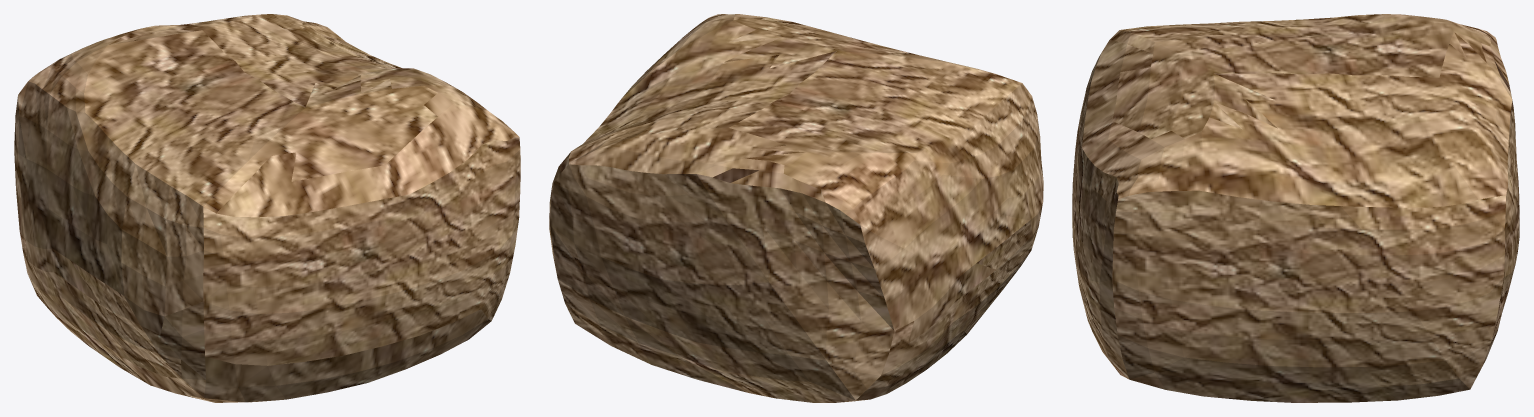
The model's file is 新しいシーン.glb.
3 views of the same model, side by side, from view 1: azimuth 30°, elevation 25°; view 2: azimuth 150°, elevation 25°; view 3: azimuth 270°, elevation 25° (orthographic). The views are drawn at different scales.
Parts seen in each view (by area): view 1: mesh_id5; view 2: mesh_id5; view 3: mesh_id5.
Boxes of the visible parts, box(x1,y1,x2,y2) form: mesh_id5: box(14, 14, 520, 402); mesh_id5: box(549, 14, 1043, 402); mesh_id5: box(1072, 14, 1519, 402).
Bounding box in the file's own units: 0.512 × 0.3697 × 0.5138.
Materials: 2 (2 with a texture image).
